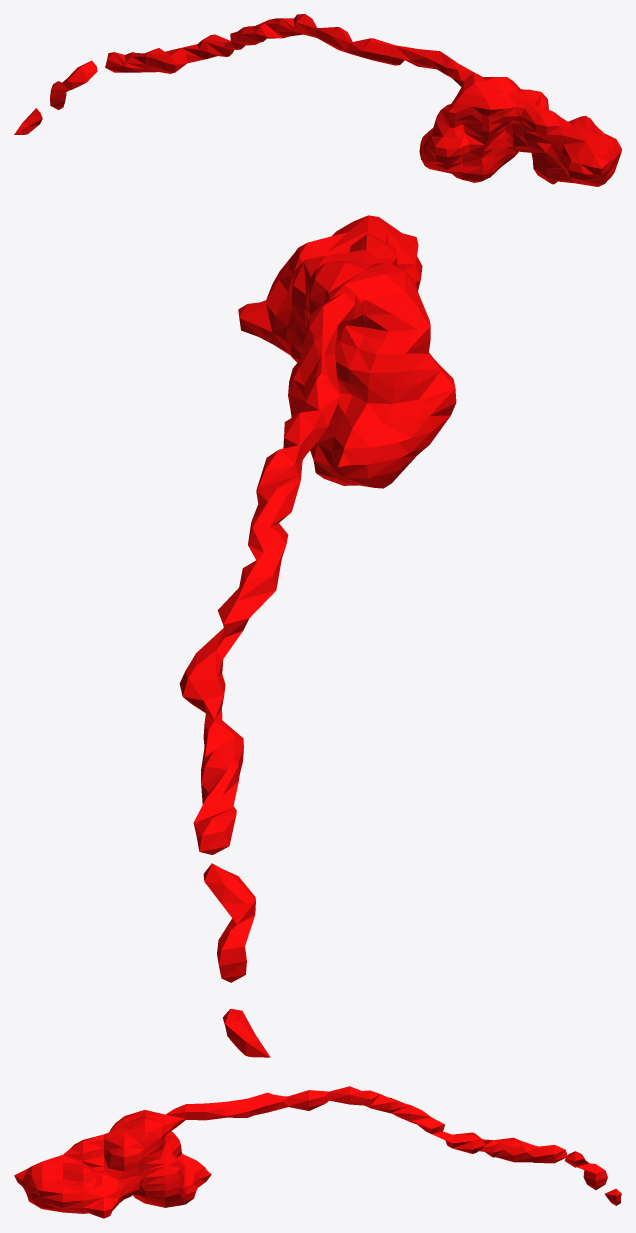
File: ytfL_coarse.dae
3 renders of one model, top to bottom at view 1: azimuth 30°, elevation 25°; view 2: azimuth 150°, elevation 25°; view 3: azimuth 270°, elevation 25°, orthographic. The views are drawn at different scales.
Parts seen in each view (by area): view 1: ytfL; view 2: ytfL; view 3: ytfL.
Boxes of the visible parts, bbox=[...] form: ytfL: bbox=[14, 14, 621, 186]; ytfL: bbox=[179, 215, 456, 1057]; ytfL: bbox=[14, 1086, 621, 1218].
Bounding box in the file's own units: 155 × 100 × 300.
